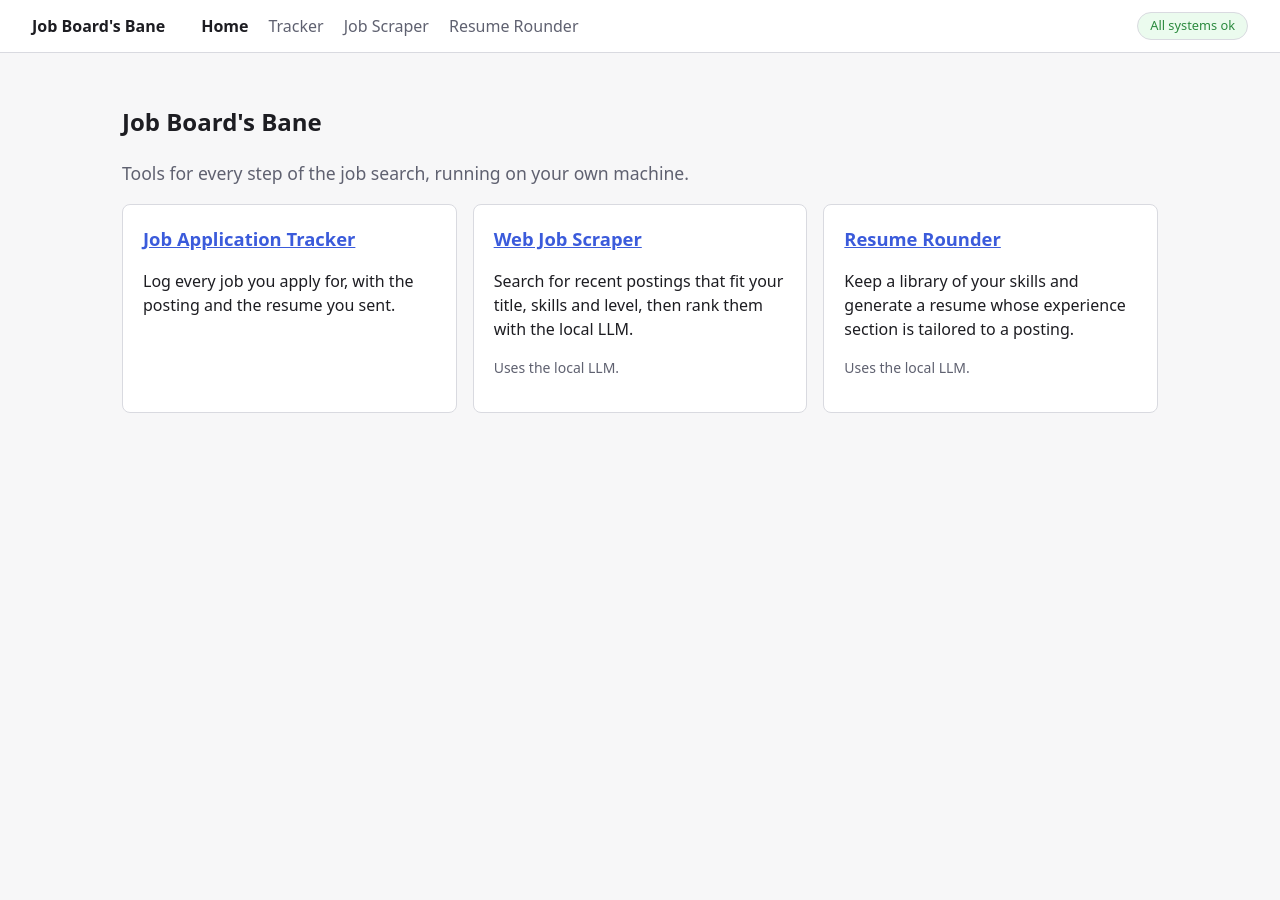
Test: app shell › nav link Resume Rounder opens its page
Click the link "Resume Rounder" in the row of "Home".
click(514, 26)  # box [449,14,578,38]
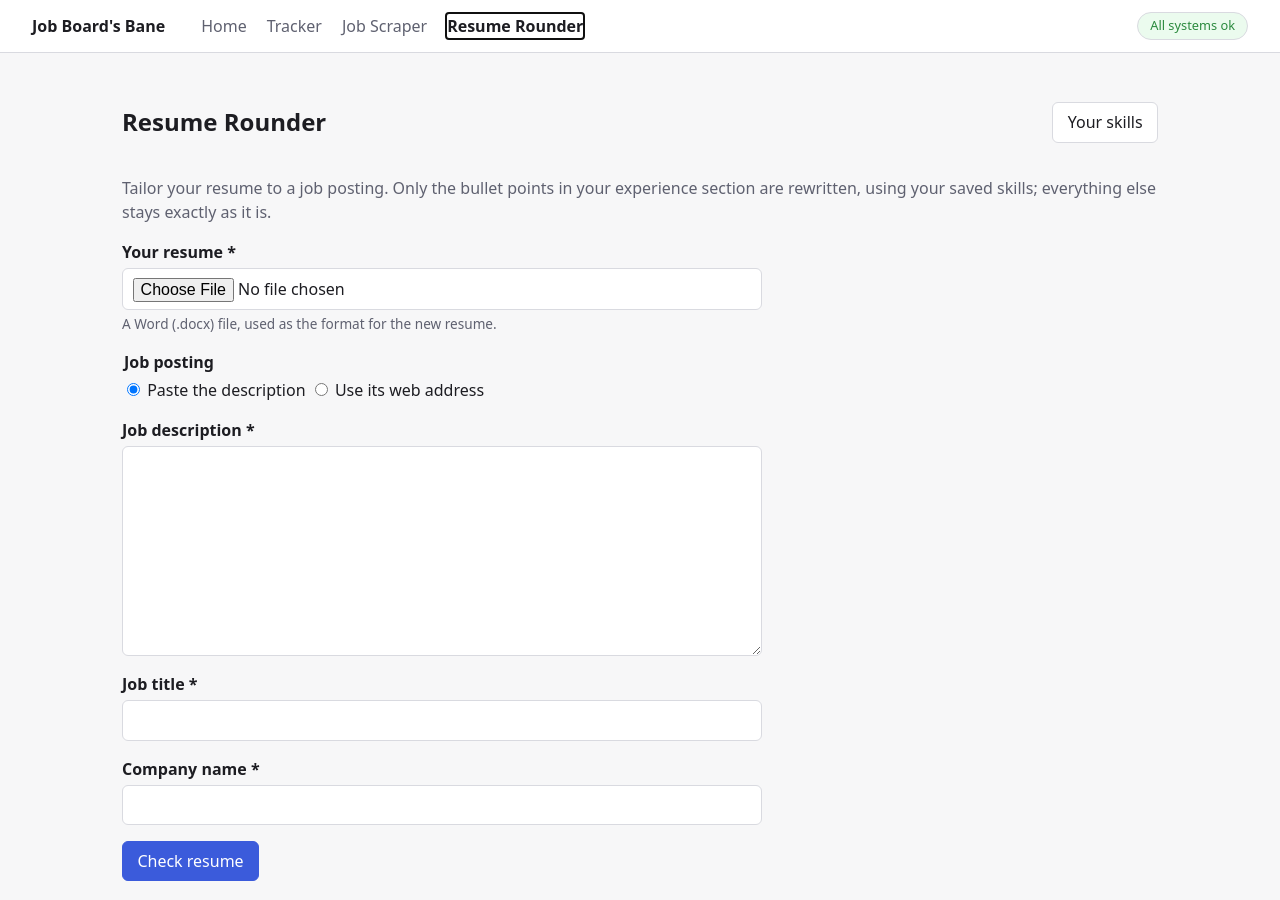
Check: the heading "Resume Rounder" is shown, box [122,104,326,140]
